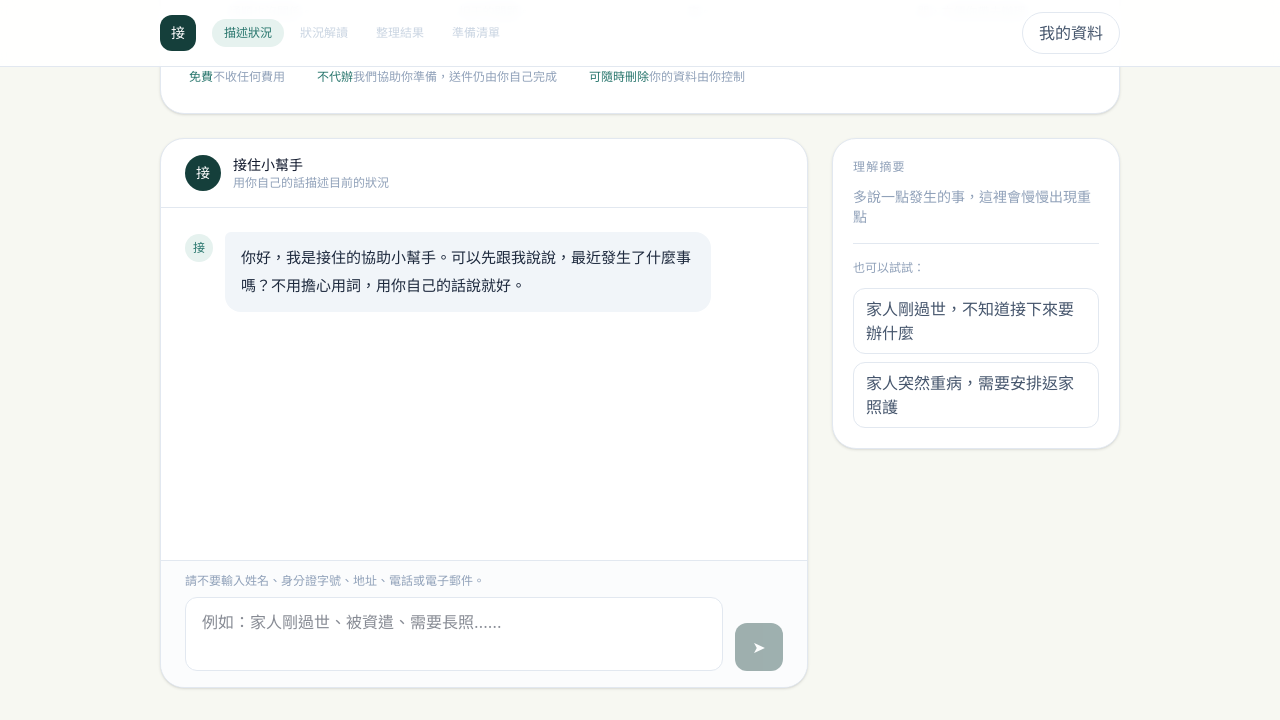
Scenario: NavigatorFlow › does not repeat a follow-up question about a dimension already mentioned in the user's message
(page scrolled)
Type "我先生上週過世了，我們還有兩個小孩" into the text box named "輸入訊息".
click(454, 634); type("我先生上週過世了，我們還有兩個小孩")  # box [185,597,723,671]
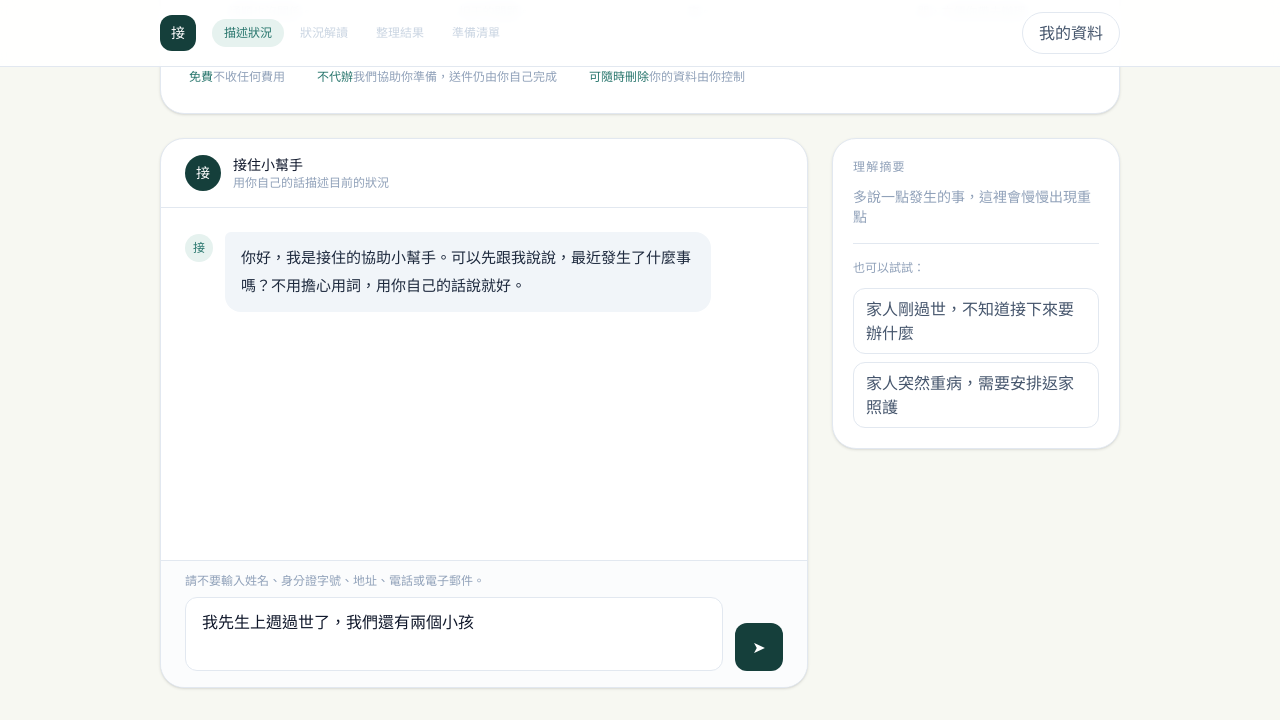
Click the button named "送出".
click(759, 647)  # box [735,623,783,671]
(page scrolled)
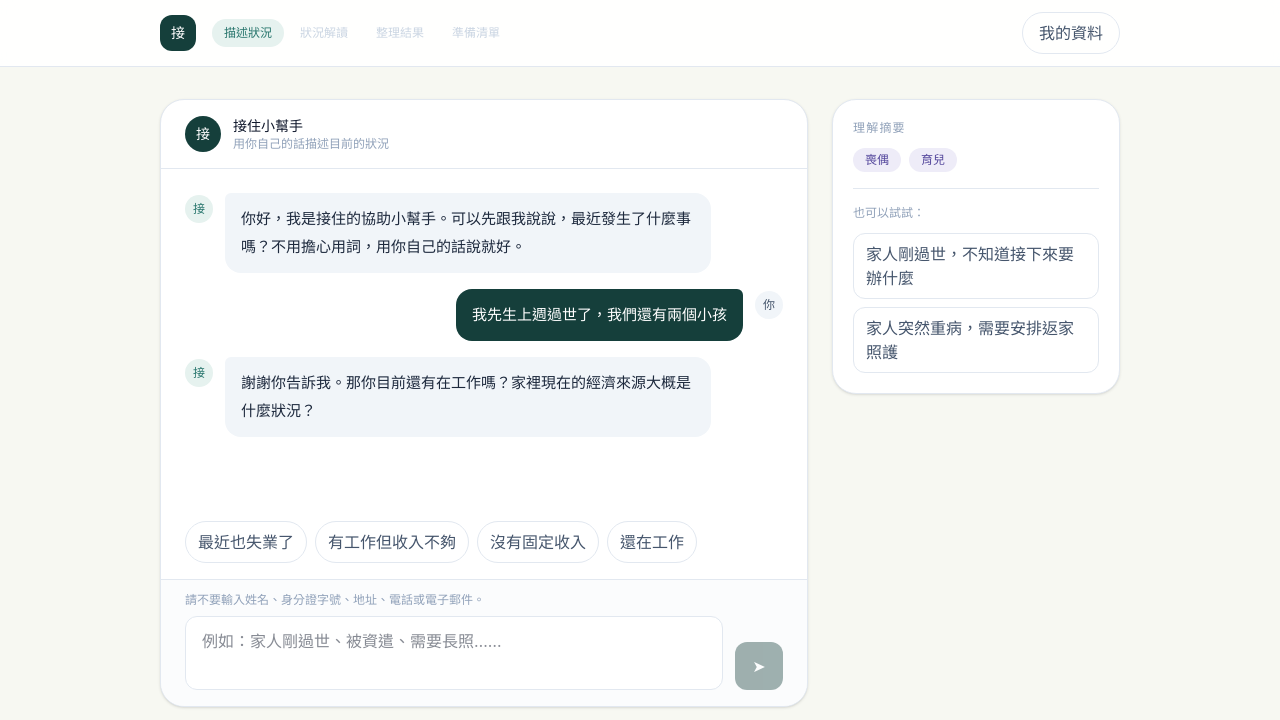
Expected: the text "喪偶" is shown, [853,148,901,172]
Expected: the text "育兒" is shown, [909,148,957,172]
Expected: the button "最近也失業了" is shown, [185,521,307,563]
